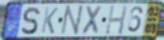6: (127, 6, 144, 35)
H: (104, 4, 129, 36)
K: (40, 6, 59, 35)
N: (59, 4, 85, 37)
S: (20, 6, 41, 36)
X: (80, 5, 104, 36)
